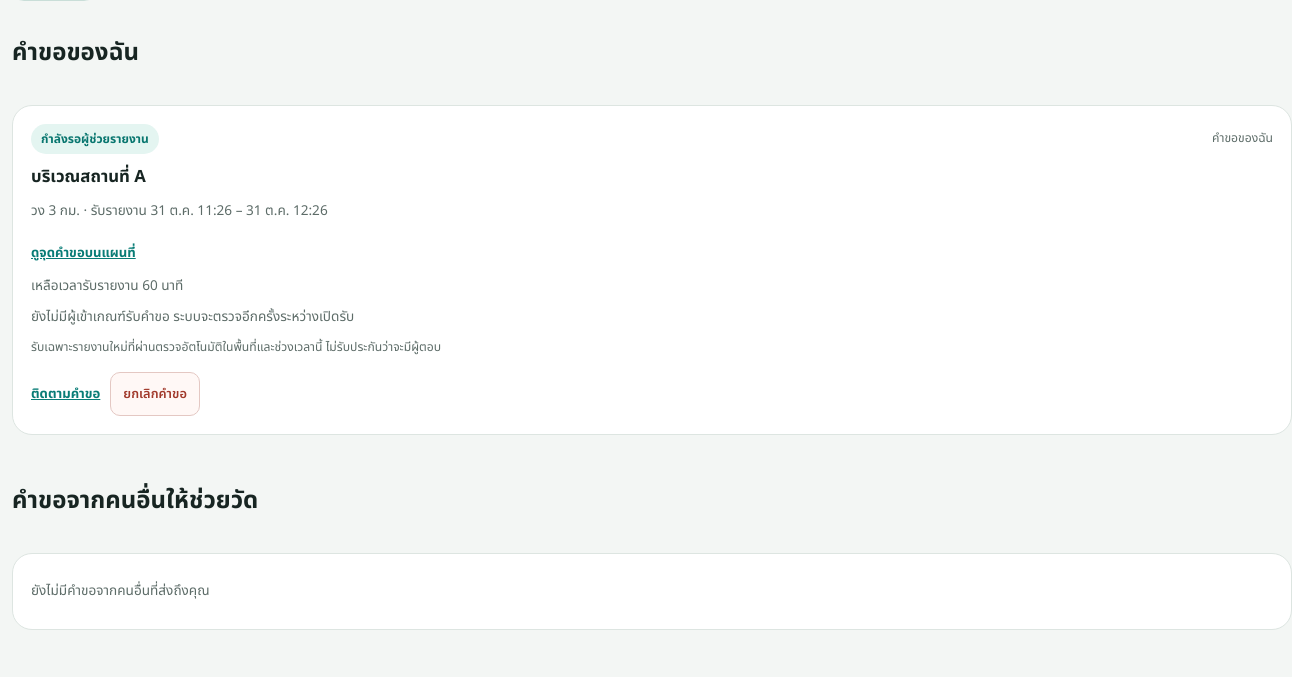
Test: moves a cancelled request into history and removes its map link
The width and height of the screenshot is (1292, 677).
Step 1. Click the button "ยกเลิกคำขอ" → (155, 394), box [110,372,200,416]
(page scrolled)
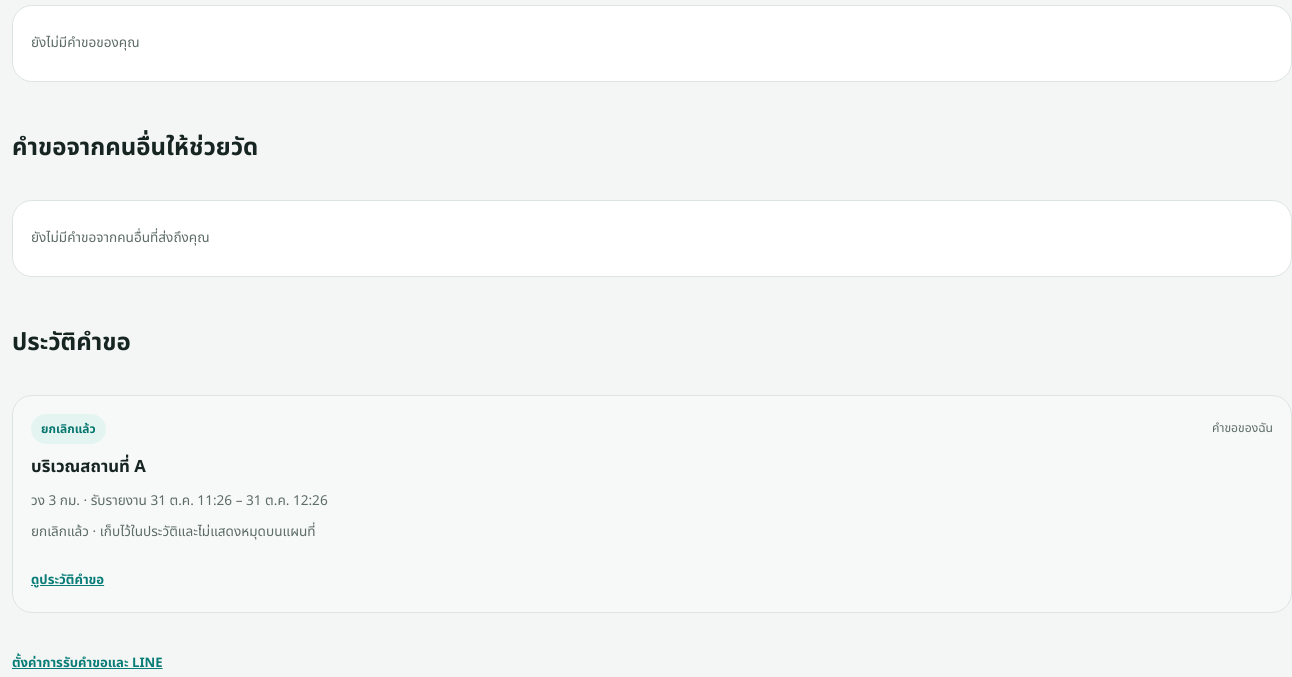
Expected: the text "ยกเลิกแล้ว" is shown, [31,414,106,444]
Expected: the link "ดูจุดคำขอบนแผนที่" is gone
Expected: the link "ดูประวัติคำขอ" is shown, [31,570,104,590]
